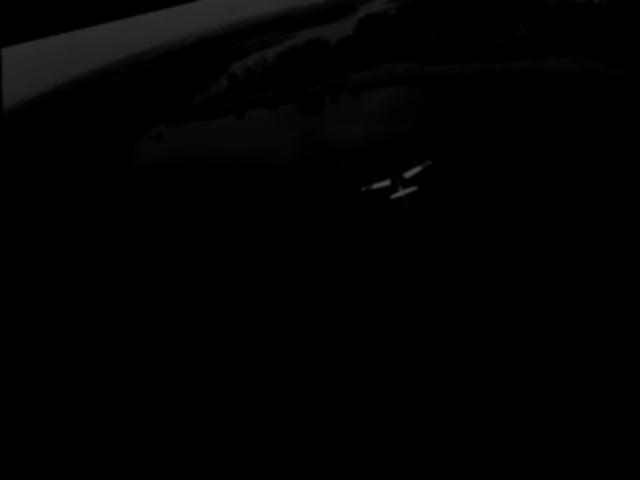hedef: (354, 159, 441, 227)
